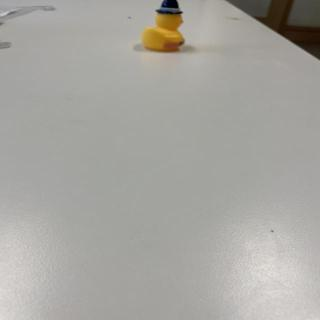duck_specialty: (140, 1, 189, 53)
